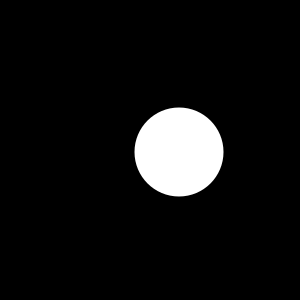rectangle: (134, 108, 224, 196)
